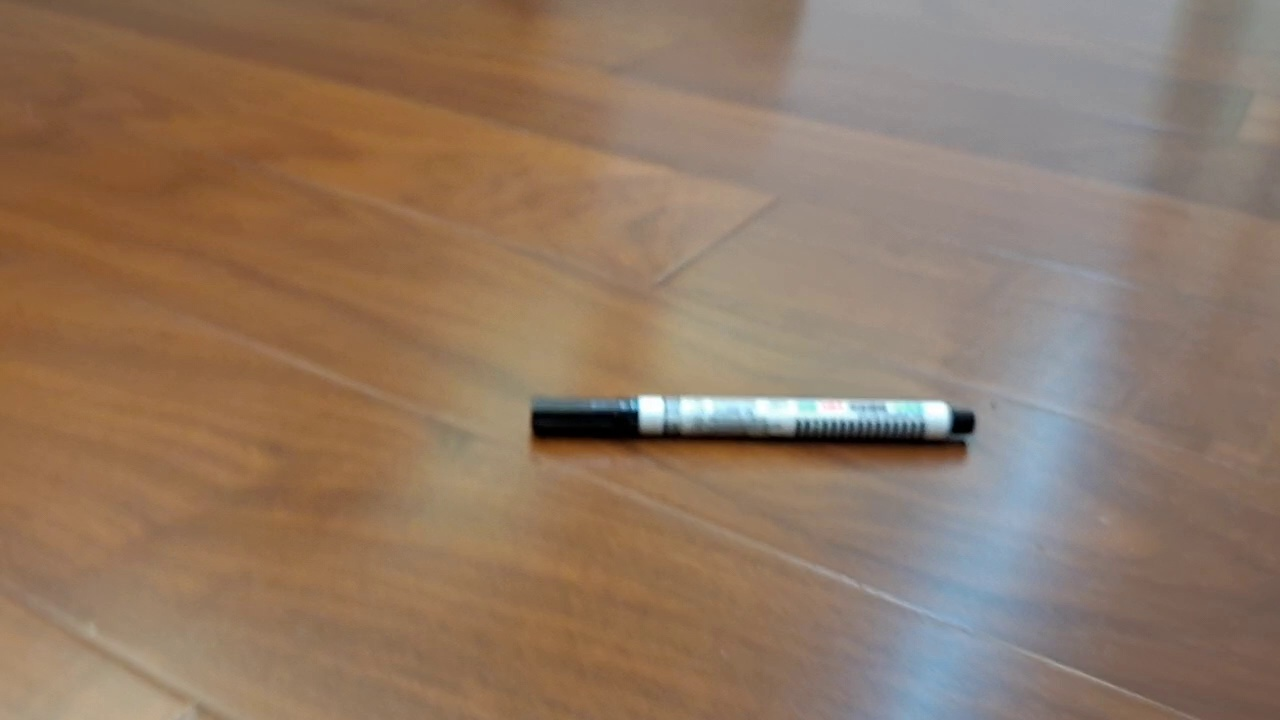pen: (529, 394, 975, 442)
